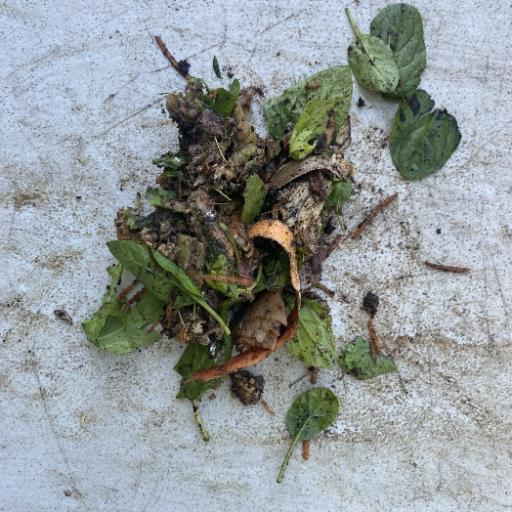Waste: (80, 3, 464, 480)
